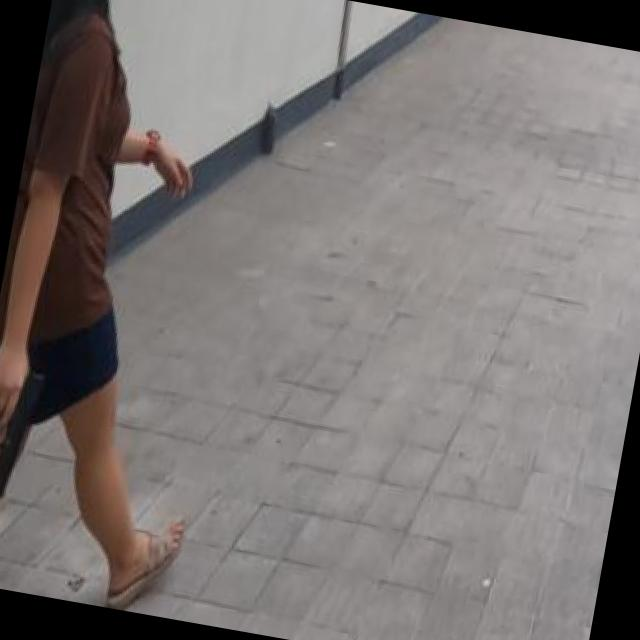Guns: (0, 337, 70, 516)
